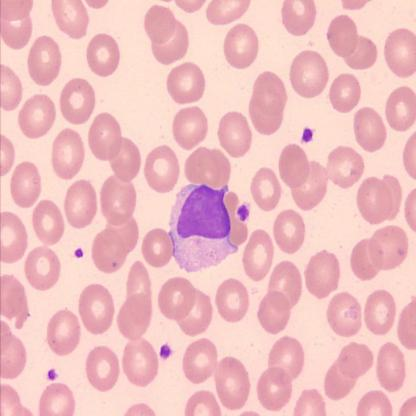Lymphocyte: (168, 184, 239, 272)
